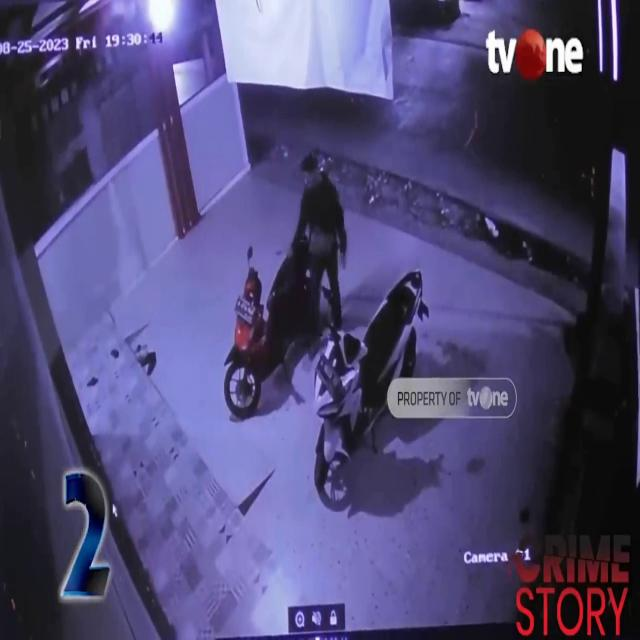pencurian: (220, 153, 348, 341)
